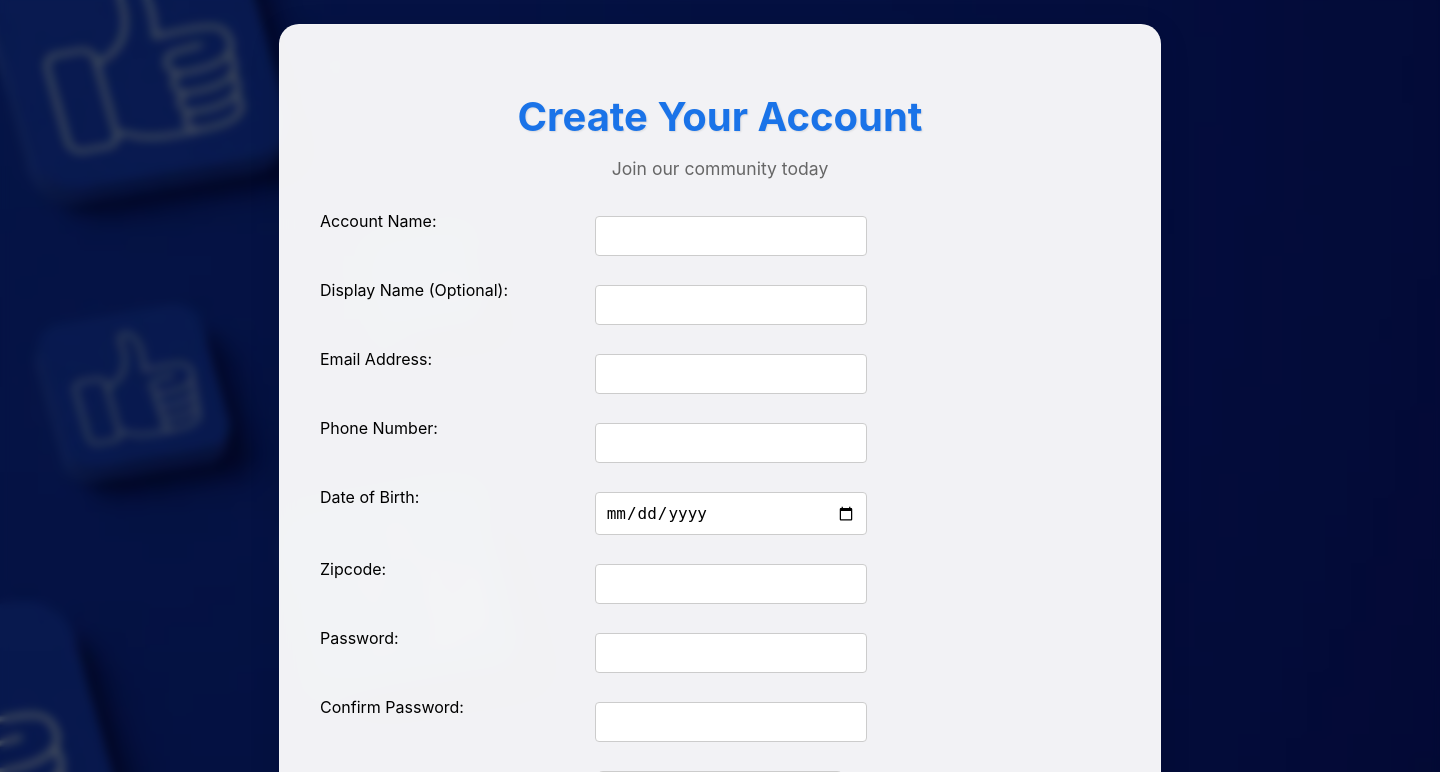
Test case: RegisterPage › should clear the form when clicking Clear button
Type "someUsername" into the field labelled "Account Name:".
click(731, 236); type("someUsername")  # box [595,216,867,256]
(page scrolled)
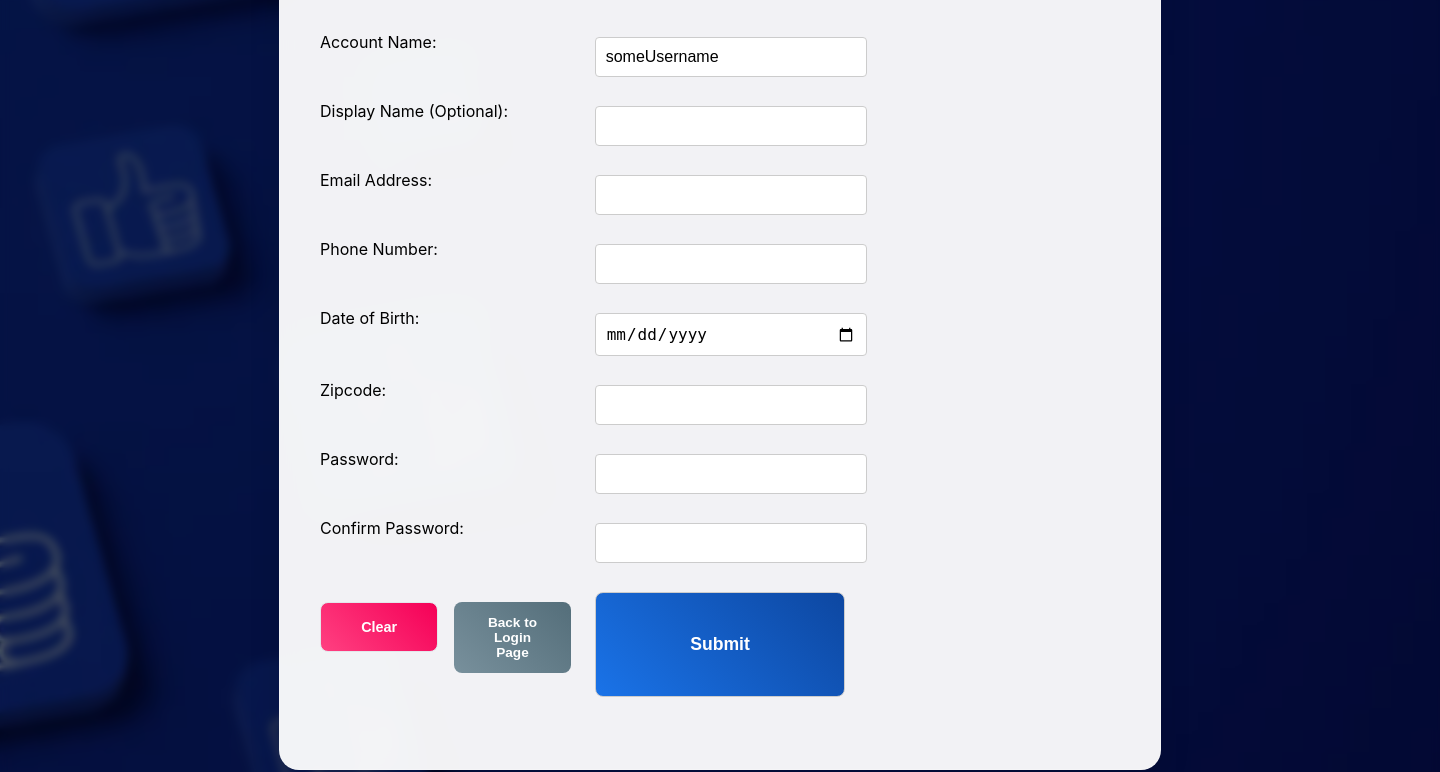
Click the button "Clear".
click(379, 627)  # box [320,602,438,652]
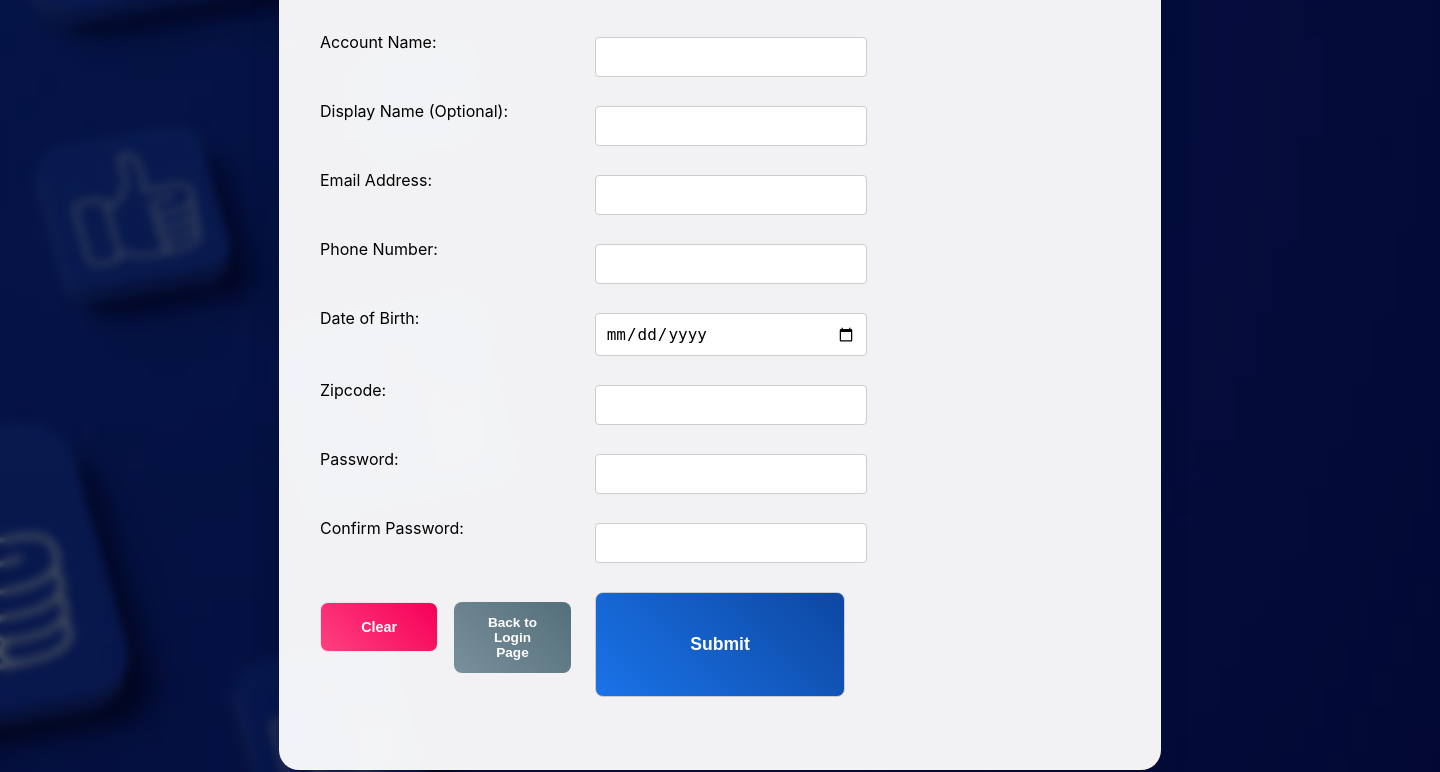
Expected: the field labelled "Account Name:" is empty, [595,37,867,77]
